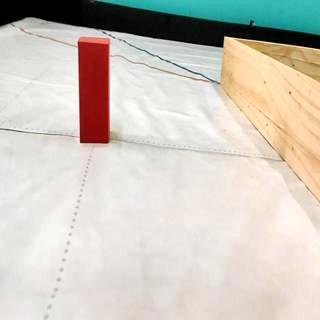redbox: (78, 36, 110, 144)
